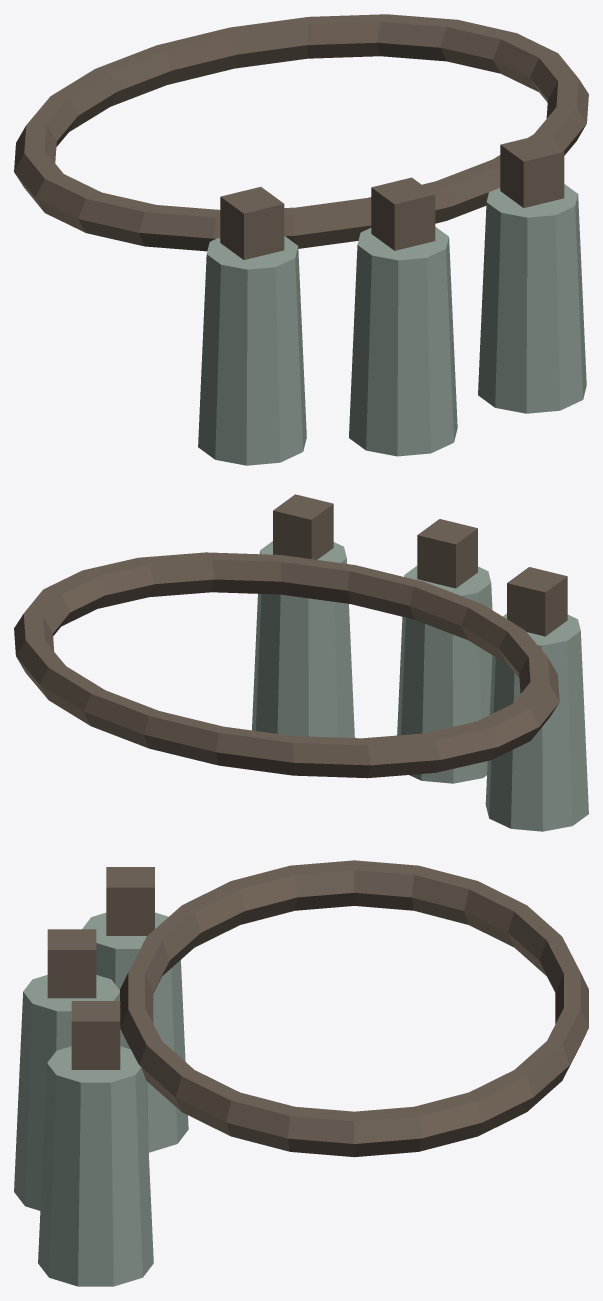
File: Flasks.fbx
The picture shows the model from 3 angles, top to bottom: view 1: azimuth 30°, elevation 25°; view 2: azimuth 150°, elevation 25°; view 3: azimuth 270°, elevation 25°; orthographic projection. The views are drawn at different scales.
Parts seen in each view (by area): view 1: Flasks; view 2: Flasks; view 3: Flasks.
Boxes of the visible parts, x1,y1,x2,y2 form: Flasks: [14, 14, 588, 465]; Flasks: [14, 494, 588, 831]; Flasks: [14, 860, 588, 1286].
Size of the model in its own units: 16.8 by 7.3 by 15.09.
